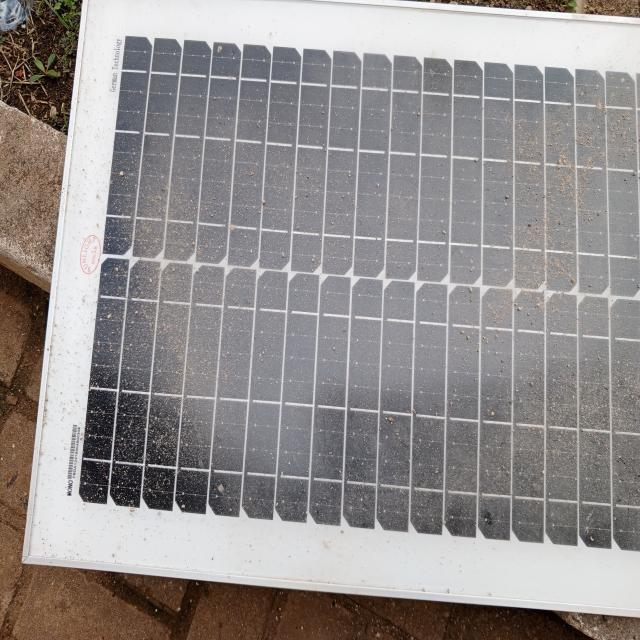Anomaly Solar Panel: (119, 33, 639, 544)
Surface Contaminant: (119, 33, 639, 544)
